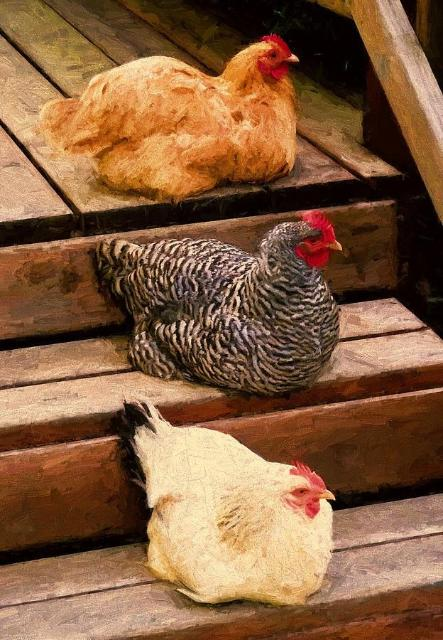Chicken: (112, 397, 338, 609), (92, 212, 340, 394), (43, 34, 303, 203)
